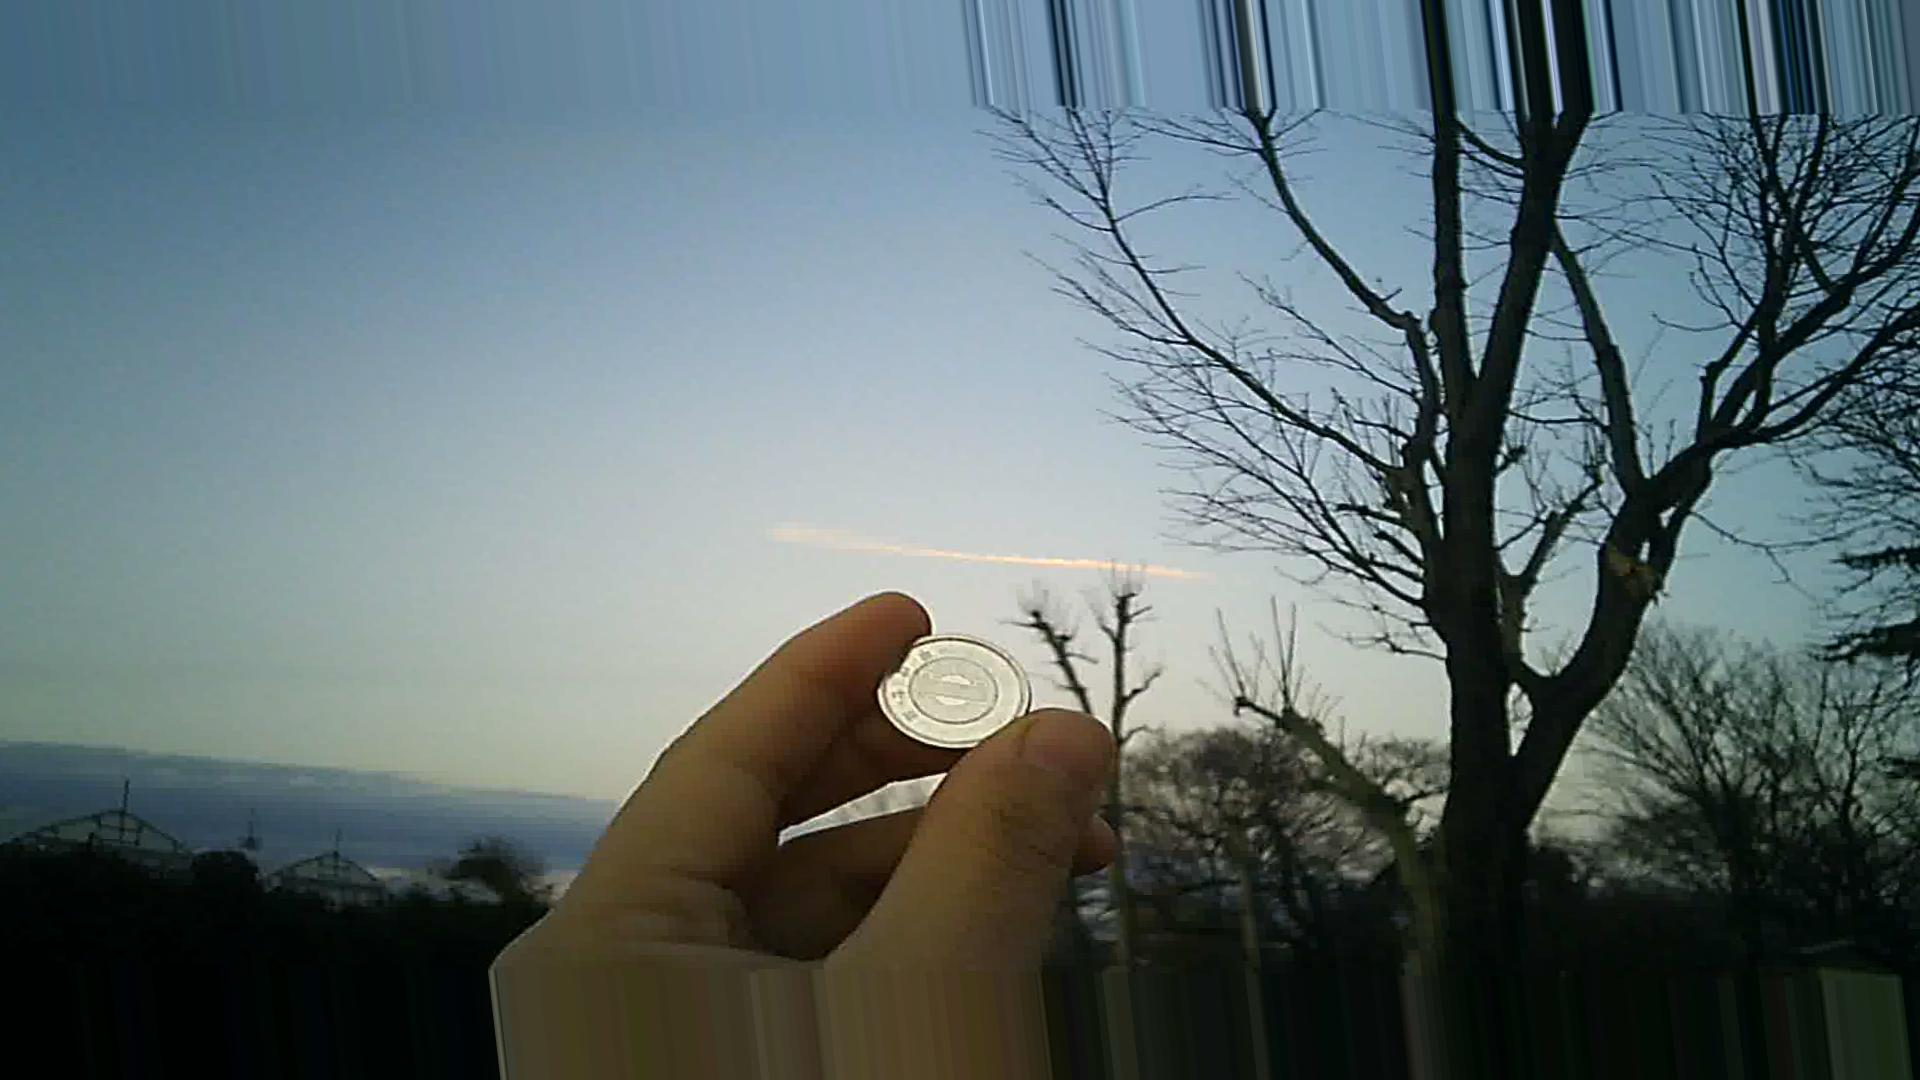1 Yen: (874, 628, 1033, 760)
